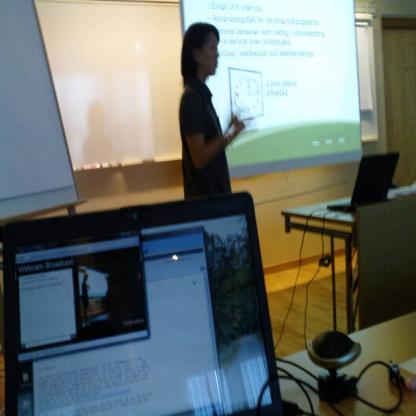Person: (179, 22, 245, 198)
